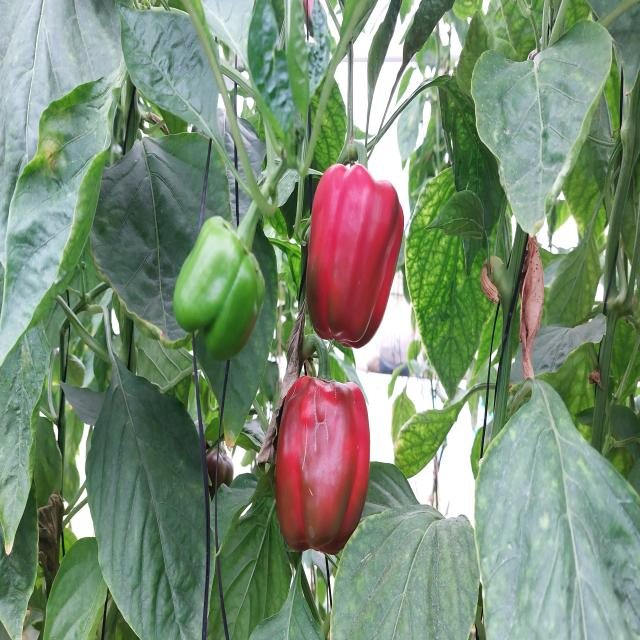Green--Not-ready-to-harvest: (176, 224, 263, 358)
Red-Ready-to-Harvest: (271, 376, 381, 563), (306, 165, 410, 352), (309, 170, 400, 352)
